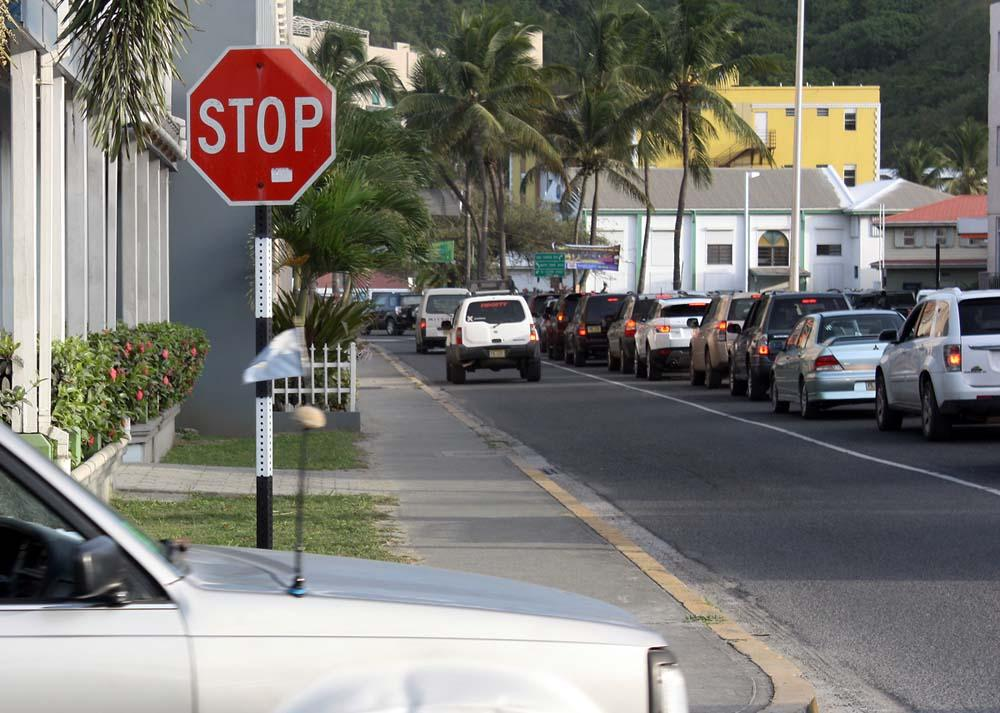Pole: (255, 207, 275, 544)
Sign: (186, 48, 336, 205)
